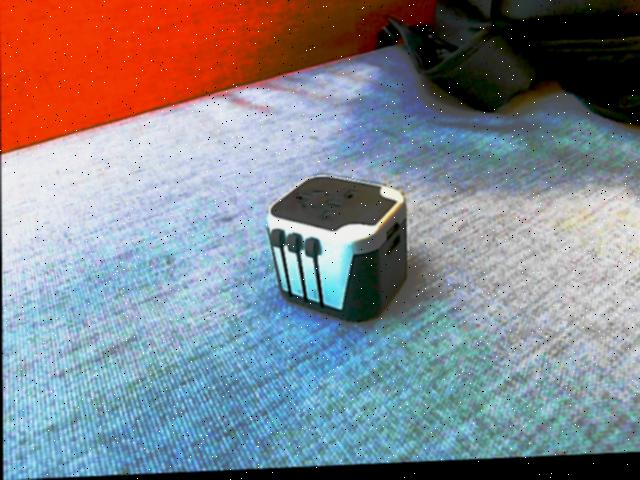adapter: (265, 174, 408, 329)
